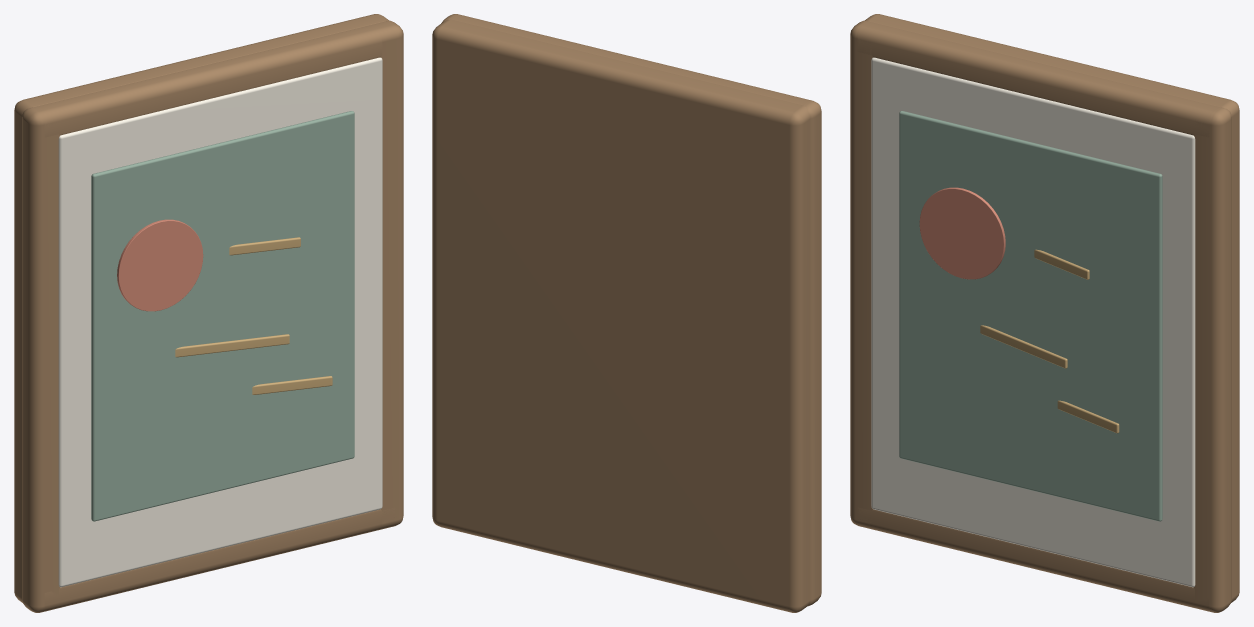
Rendered from poster_frame.glb.
3 views of the same model, side by side, from view 1: azimuth 30°, elevation 25°; view 2: azimuth 150°, elevation 25°; view 3: azimuth 330°, elevation 25° (orthographic).
Parts seen in each view (by area): view 1: Poster field, Mat board, Frame side, Frame rail.001, Frame side.001, Backing.002, Frame rail, Sun graphic, Poster graphic stripe.001, Poster graphic stripe.002, Poster graphic stripe; view 2: Backing.002, Frame side, Frame rail.001; view 3: Poster field, Mat board, Frame side.001, Frame rail.001, Frame side, Backing.002, Frame rail, Sun graphic, Poster graphic stripe.001, Poster graphic stripe.002, Poster graphic stripe.
Boxes of the visible parts, x1,y1,x2,y2 form: Poster field: (91, 111, 354, 521); Mat board: (58, 57, 382, 587); Frame side: (22, 107, 60, 612); Frame rail.001: (34, 21, 395, 137); Frame side.001: (380, 20, 403, 529); Backing.002: (14, 14, 388, 602); Frame rail: (43, 508, 396, 611); Sun graphic: (117, 219, 203, 311); Poster graphic stripe.001: (175, 334, 289, 357); Poster graphic stripe.002: (252, 376, 332, 394); Poster graphic stripe: (229, 237, 300, 255); Backing.002: (432, 19, 810, 612); Frame side: (803, 100, 821, 606); Frame rail.001: (452, 14, 810, 105); Poster field: (899, 111, 1162, 521); Mat board: (871, 57, 1195, 587); Frame side.001: (1193, 107, 1231, 612); Frame rail.001: (857, 21, 1219, 137); Frame side: (850, 20, 873, 529); Backing.002: (865, 14, 1239, 602); Frame rail: (857, 507, 1210, 611); Sun graphic: (919, 187, 1005, 279); Poster graphic stripe.001: (980, 325, 1067, 368); Poster graphic stripe.002: (1057, 400, 1119, 433); Poster graphic stripe: (1034, 249, 1089, 279).
Bounding box in the file's own units: 0.485 × 0.62 × 0.0978.
